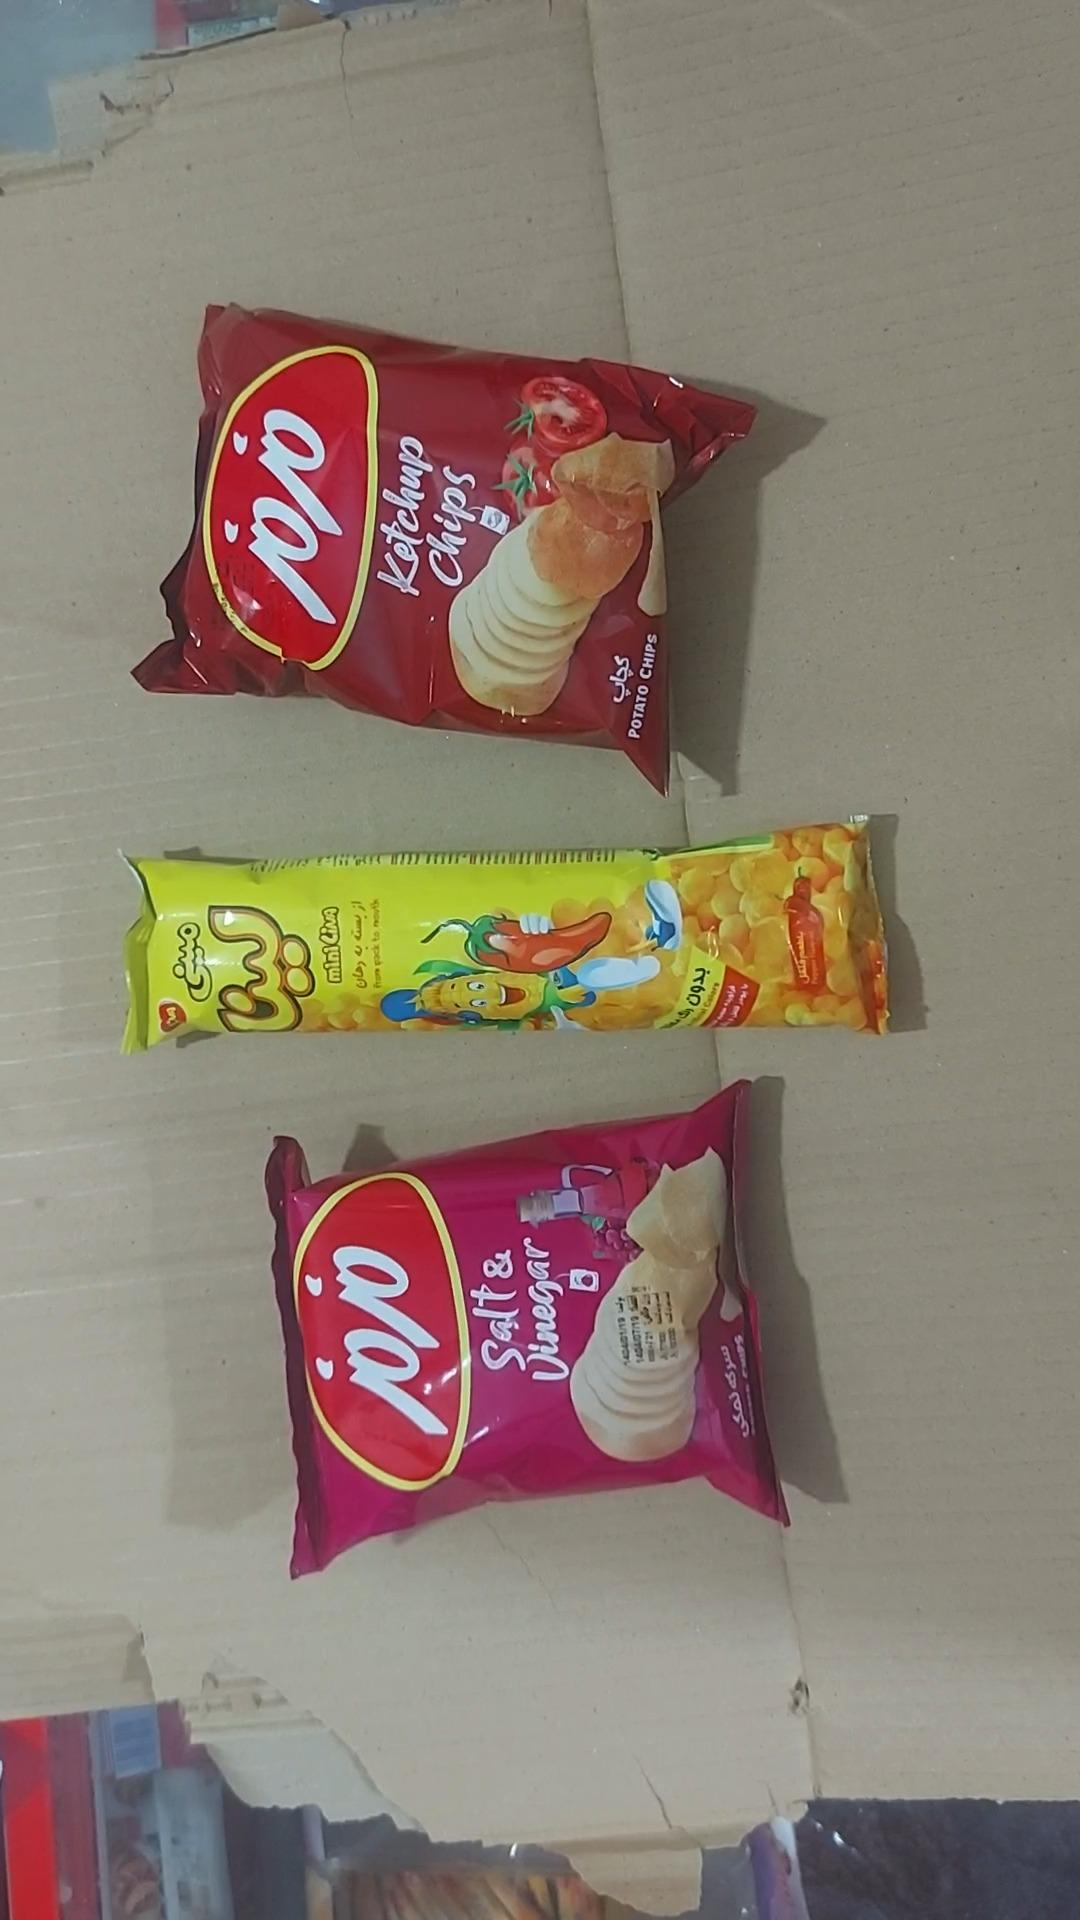Maz Maz ketchup chips: (135, 305, 754, 791)
Maz Maz vinegar chips: (266, 1083, 787, 1578)
Mini Lina: (123, 820, 887, 1052)
